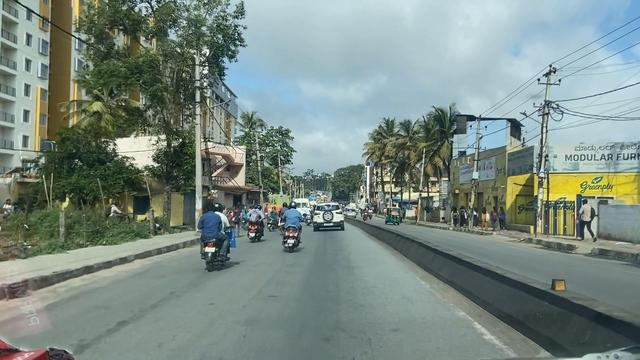LMV: (199, 203, 234, 267), (281, 201, 300, 254), (315, 203, 345, 232), (244, 205, 262, 246)
